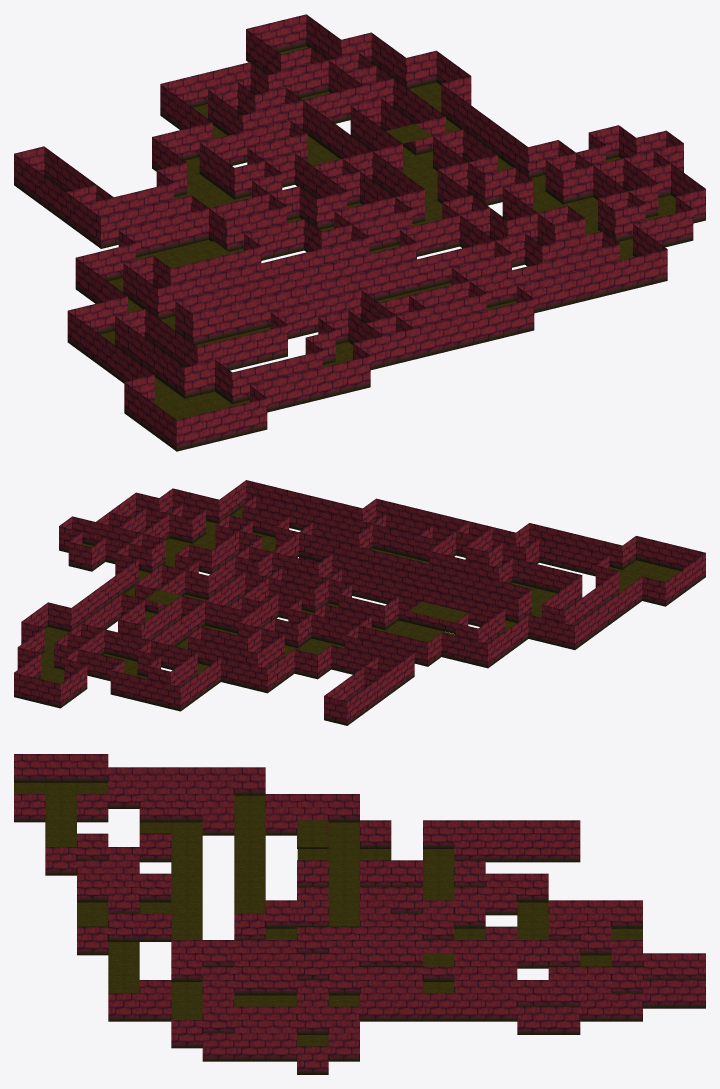
The model's file is Dungeon.diff1.obj.
3 views of the same model, one above another, from view 1: azimuth 30°, elevation 25°; view 2: azimuth 150°, elevation 25°; view 3: azimuth 270°, elevation 25° (orthographic). The views are drawn at different scales.
Visible parts, largest first — view 1: WallN_Plane.500, WallS_Plane.416, WallE_Plane.602, WallW_Plane.684, Floor_Plane.268, Ceiling_Plane.058; view 2: WallN_Plane.500, WallS_Plane.416, WallW_Plane.684, WallE_Plane.602, Floor_Plane.268, Ceiling_Plane.058; view 3: WallE_Plane.602, WallW_Plane.684, Floor_Plane.268, Ceiling_Plane.058.
Boxes of the visible parts, x1=… form: WallN_Plane.500: x1=14, y1=14, x2=670, y2=403; WallS_Plane.416: x1=67, y1=47, x2=705, y2=451; WallE_Plane.602: x1=44, y1=14, x2=705, y2=403; WallW_Plane.684: x1=14, y1=29, x2=657, y2=451; Floor_Plane.268: x1=100, y1=46, x2=675, y2=419; Ceiling_Plane.058: x1=154, y1=123, x2=432, y2=268; WallN_Plane.500: x1=14, y1=495, x2=665, y2=725; WallS_Plane.416: x1=48, y1=480, x2=705, y2=686; WallW_Plane.684: x1=54, y1=496, x2=705, y2=725; WallE_Plane.602: x1=14, y1=480, x2=635, y2=701; Floor_Plane.268: x1=39, y1=507, x2=680, y2=683; Ceiling_Plane.058: x1=145, y1=590, x2=467, y2=622; WallE_Plane.602: x1=14, y1=780, x2=705, y2=1074; WallW_Plane.684: x1=14, y1=754, x2=705, y2=1034; Floor_Plane.268: x1=14, y1=782, x2=642, y2=1046; Ceiling_Plane.058: x1=297, y1=820, x2=454, y2=966.
Size of the model in its own units: 22 by 2 by 22.
3 materials, 3 textured.
